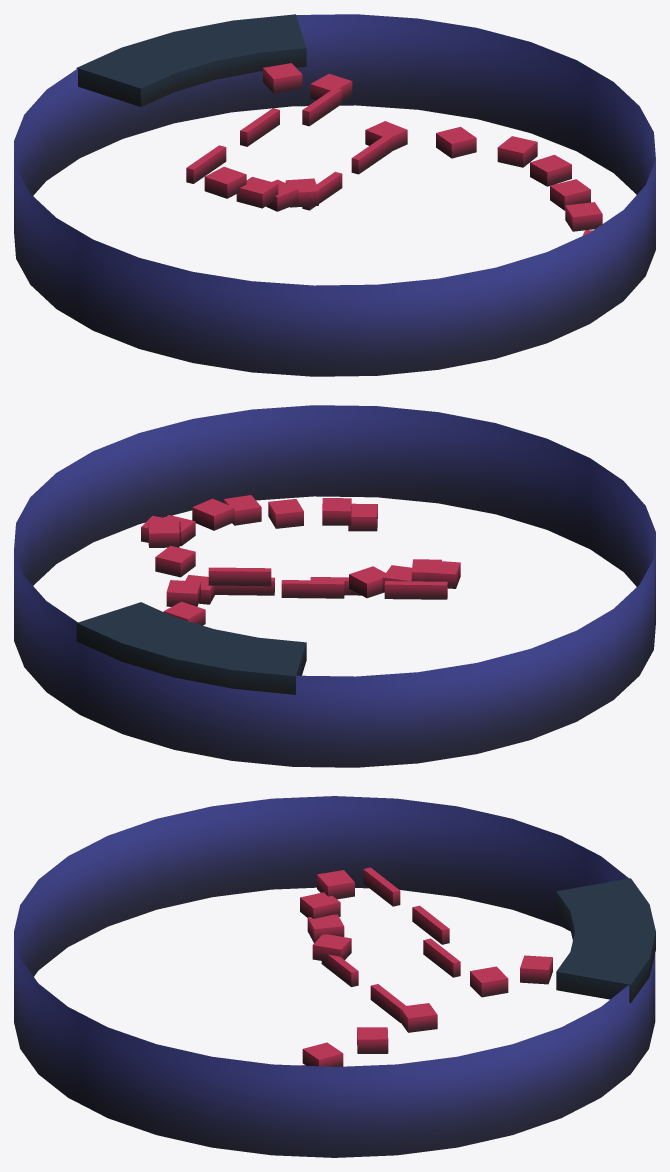
File: Chunk09.glb
The picture shows the model from 3 angles, top to bottom: view 1: azimuth 30°, elevation 25°; view 2: azimuth 150°, elevation 25°; view 3: azimuth 270°, elevation 25°; orthographic projection.
Visible parts, largest first — view 1: Chunk09; view 2: Chunk09; view 3: Chunk09.
Boxes of the visible parts, x1,y1,x2,y2 form: Chunk09: (14, 14, 655, 376); Chunk09: (14, 405, 655, 767); Chunk09: (14, 796, 655, 1157).
Size of what is drawn, in the model's own units: 69.14 by 11.95 by 69.22.
1 material, 1 textured.
